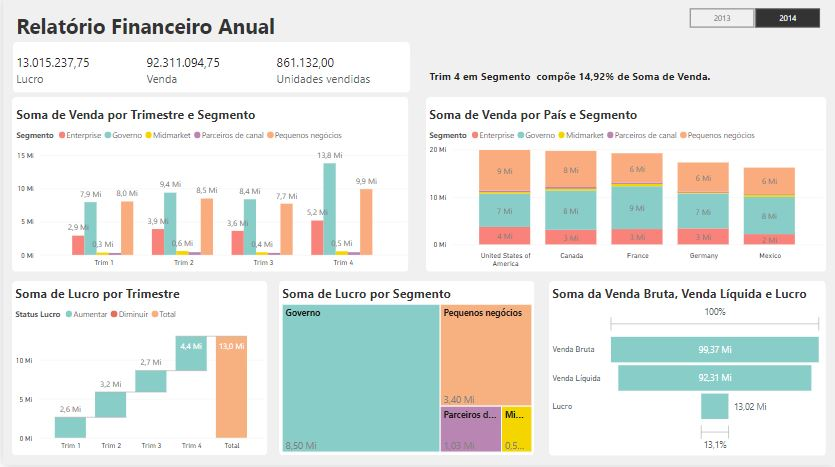

What the dashboard file says about the page in this screenshot:
{"tool":"powerbi","page":{"name":"Overview Finance","canvas":[1280,720],"ordinal":0},"visuals":[{"type":"shape","box":[13.3,436.7,393.3,268.3],"z":0},{"type":"shape","box":[840,436.7,425.6,268.9],"z":1000},{"type":"waterfallChart","fields":{"Y":["Sum(financials.Lucro)"],"Category":["financials.Data.Variation.Hierarquia de datas.Trimestre"]},"box":[13.5,443.8,392.7,261.5],"z":2000},{"type":"shape","box":[425.2,436.4,393.3,268.3],"z":3000},{"type":"shape","box":[14.3,154.3,610,268.6],"z":4000},{"type":"shape","box":[650,154.3,615.7,268.6],"z":5000},{"type":"shape","box":[14.9,68.9,610.8,78.4],"z":6000},{"type":"slicer","fields":{"Values":["financials.Data.Variation.Hierarquia de datas.Ano"]},"box":[1030,11.4,250,42.9],"z":9000},{"type":"textbox","box":[14.9,17.6,410.8,83.8],"z":10000},{"type":"columnChart","fields":{"Category":["financials.País"],"Y":["Sum(financials.Venda)"],"Series":["financials.Segmento"]},"box":[650,167.1,615.7,255.7],"z":11000},{"type":"funnel","title":"Soma da Venda Bruta, Venda Líquida e Lucro","fields":{"Y":["Sum(financials.Venda Bruta)","Sum(financials.Venda)","Sum(financials.Lucro)"]},"box":[840.5,443.6,425.2,260.8],"z":12000},{"type":"treemap","fields":{"Group":["financials.Segmento"],"Values":["Sum(financials.Lucro)"]},"box":[425.2,443.6,394,262.2],"z":13000},{"type":"clusteredColumnChart","fields":{"Series":["financials.Segmento"],"Y":["Sum(financials.Venda)"],"Category":["financials.Data.Variation.Hierarquia de datas.Trimestre"]},"box":[14.9,167.6,610.8,255.4],"z":14000},{"type":"multiRowCard","fields":{"Values":["Sum(financials.Lucro)","Sum(financials.Venda)","Sum(financials.Unidades vendidas)"]},"box":[14.9,82.4,610.8,58.1],"z":15000},{"type":"textbox","box":[650.6,89.3,615.1,58.1],"z":15001}]}

Visuals, with their boxes in screenshot pixels (x1, y1, x2, y2), scaled from the page's 1280x720 canvas onto the 835x467 screenshot:
shape: (9,283,265,457)
shape: (548,283,826,458)
waterfallChart - Sum(financials.Lucro) x financials.Data.Variation.Hierarquia de datas.Trimestre: (9,288,265,457)
shape: (277,283,534,457)
shape: (9,100,407,274)
shape: (424,100,826,274)
shape: (10,45,408,96)
slicer - financials.Data.Variation.Hierarquia de datas.Ano: (672,7,834,35)
textbox: (10,11,278,66)
columnChart - financials.País x Sum(financials.Venda): (424,108,826,274)
"Soma da Venda Bruta, Venda Líquida e Lucro" funnel: (548,288,826,457)
treemap - financials.Segmento x Sum(financials.Lucro): (277,288,534,458)
clusteredColumnChart - financials.Segmento x Sum(financials.Venda): (10,109,408,274)
multiRowCard - Sum(financials.Lucro) x Sum(financials.Venda): (10,53,408,91)
textbox: (424,58,826,96)
